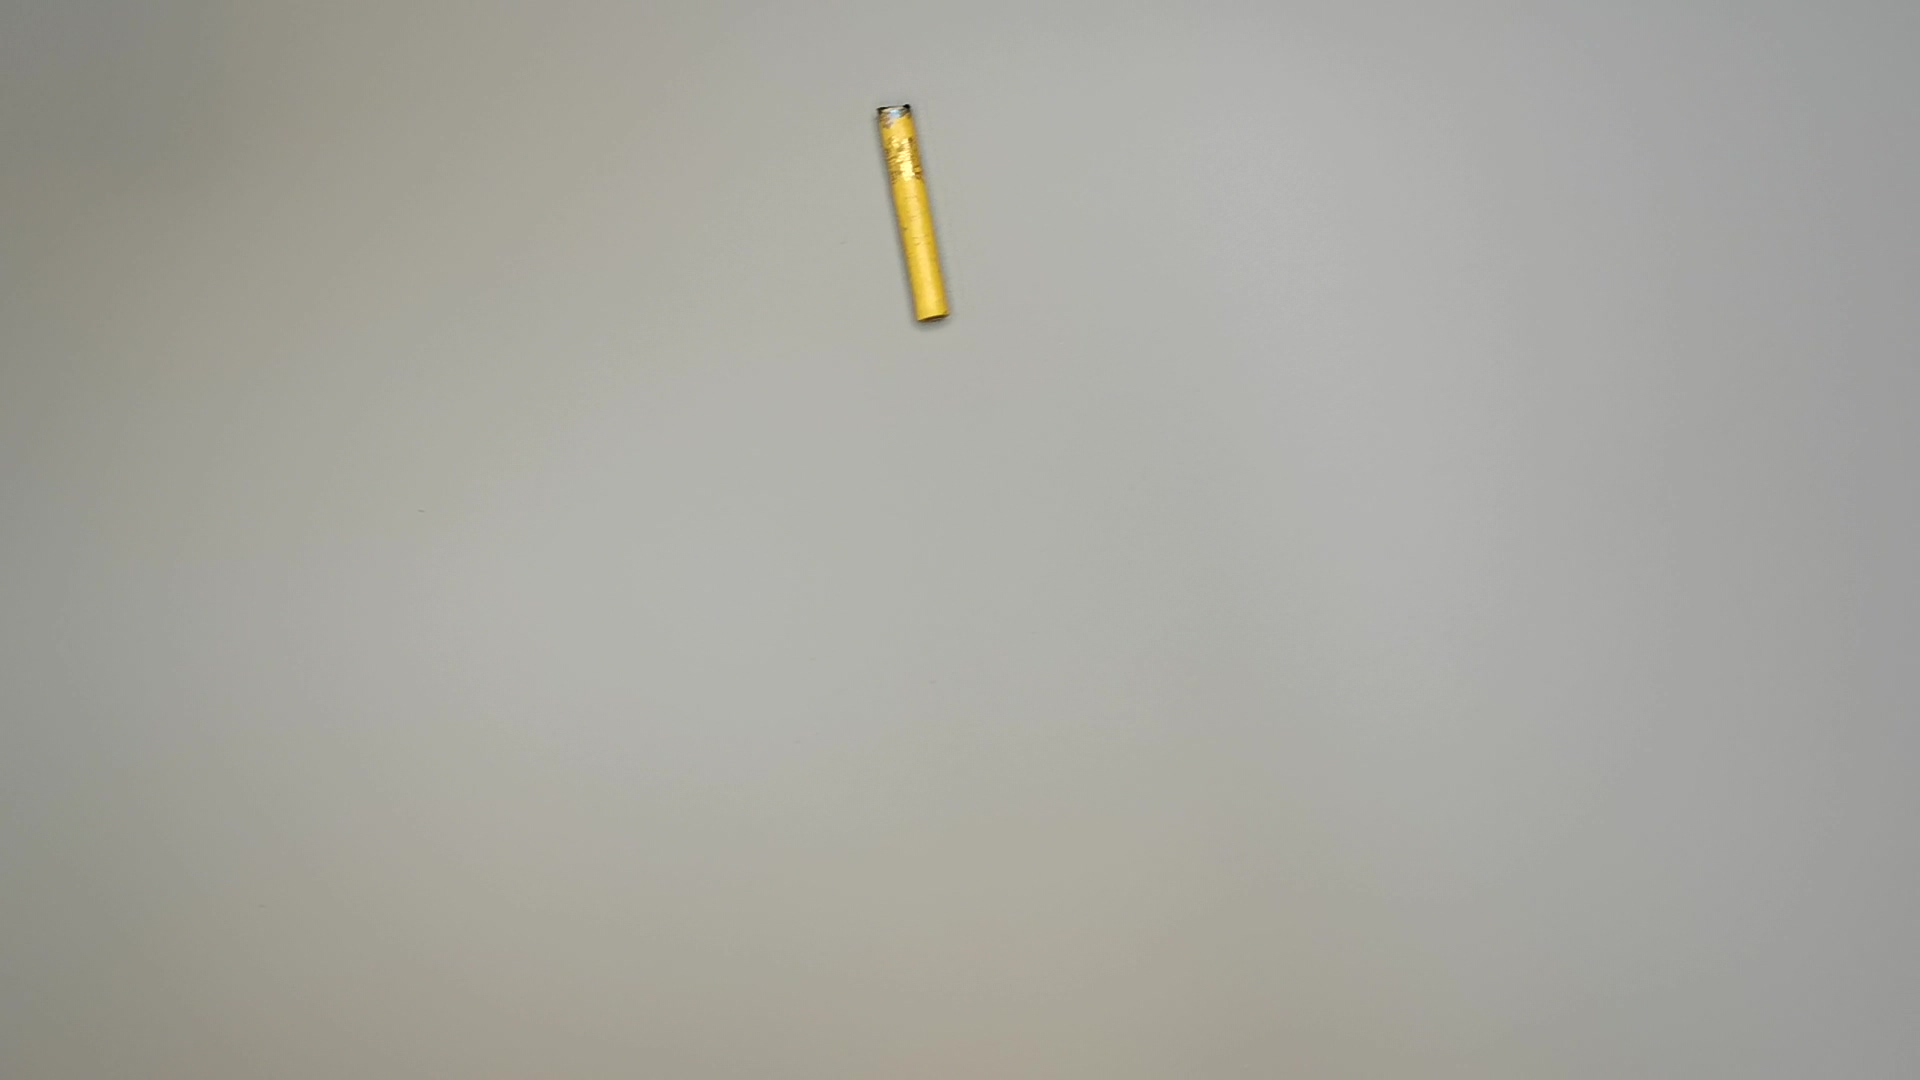cigarette: (862, 102, 963, 338)
